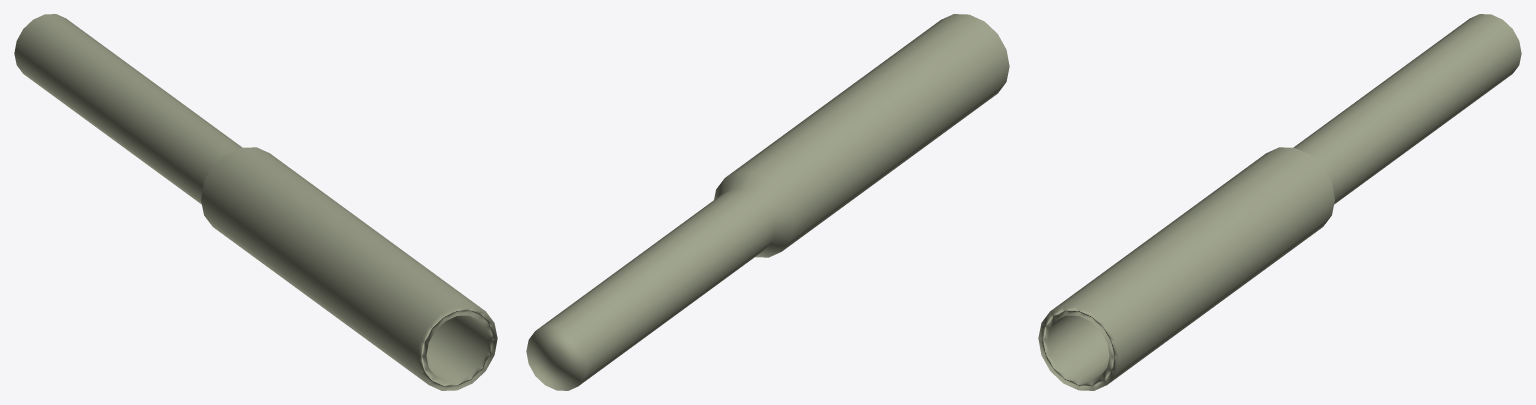
The model's file is RobotParticleGun.fbx.
3 renders of one model, left to right at view 1: azimuth 30°, elevation 25°; view 2: azimuth 150°, elevation 25°; view 3: azimuth 330°, elevation 25°, orthographic.
Visible parts, largest first — view 1: ParticleGun; view 2: ParticleGun; view 3: ParticleGun.
Part boxes in pixels (x1,y1,x2,y2): ParticleGun: [14, 14, 497, 390]; ParticleGun: [526, 14, 1009, 390]; ParticleGun: [1038, 14, 1521, 390].
Bounding box in the file's own units: 0.5507 × 0.5507 × 4.87.
